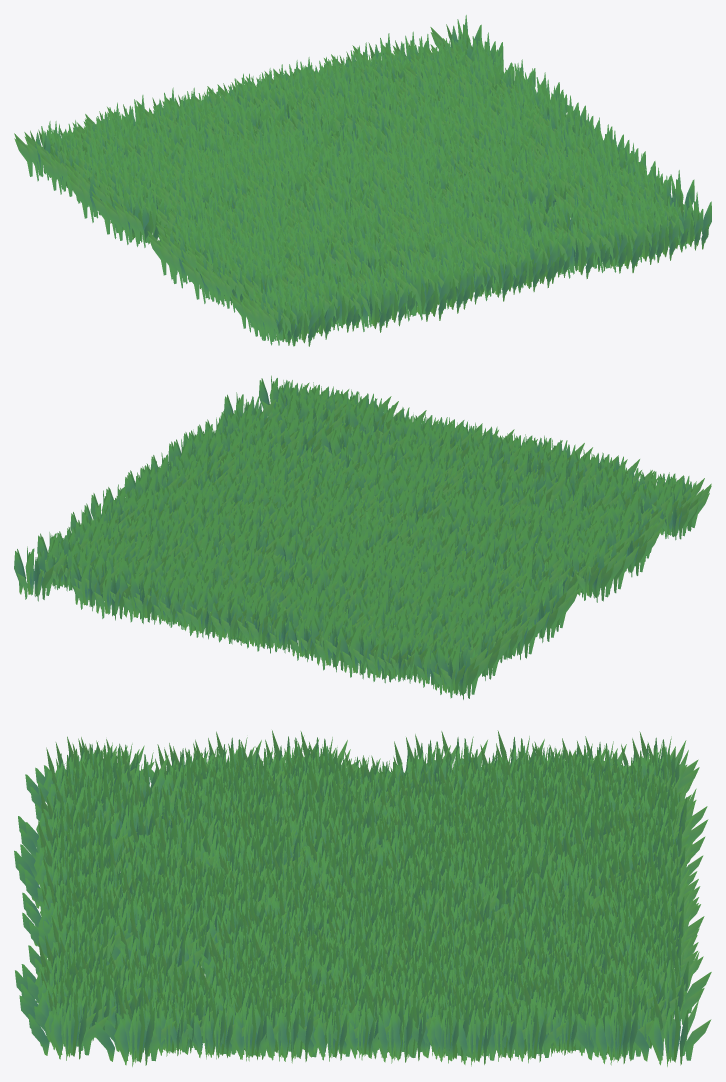
3 views of the same model, one above another, from view 1: azimuth 30°, elevation 25°; view 2: azimuth 150°, elevation 25°; view 3: azimuth 270°, elevation 25° (orthographic). The views are drawn at different scales.
Visible parts, largest first — view 1: Plane.004 (×35); view 2: Plane.004 (×30); view 3: Plane.004 (×79).
Boxes of the visible parts, bbox=[...] form: Plane.004 (×35): bbox=[14, 15, 711, 346]; Plane.004 (×30): bbox=[14, 488, 699, 699]; Plane.004 (×79): bbox=[14, 731, 711, 1066].
Size of the model in its own units: 19.81 by 2.07 by 20.21.
1 material, 1 textured.
